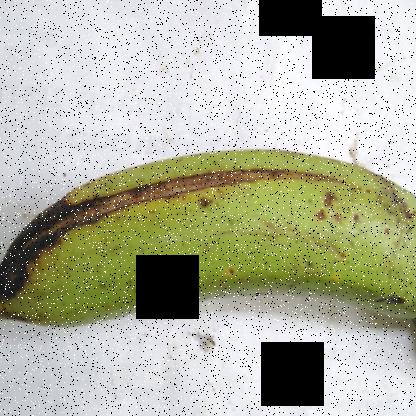rotten: (1, 149, 128, 322)
unripe: (83, 119, 415, 352)
